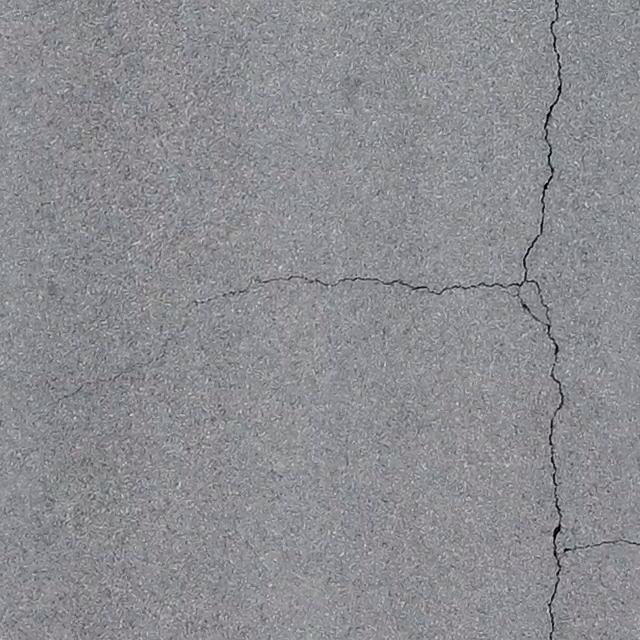GRIETA: (517, 288, 564, 639), (38, 313, 193, 418), (522, 0, 562, 278), (194, 274, 519, 304), (563, 538, 639, 554), (526, 280, 550, 324)
